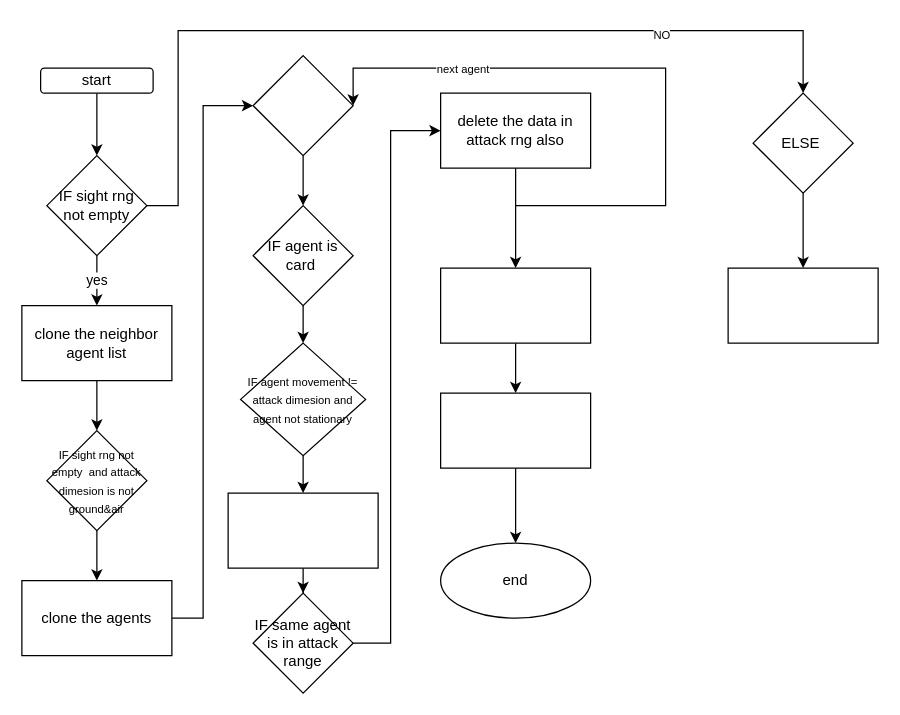
Image size: 900x715. Some labels were removed from this diagram. The shapes that lost their labels are listed below. From the top down, each one's box as (x1, y1, x2, y2) in pixels, then its label:
(252, 54, 353, 156): FOR all sight rng data
(439, 267, 591, 343): set the size data of sight and attack range data
(727, 267, 878, 343): User console
(439, 392, 591, 468): return the filtered the agent list
(227, 492, 378, 568): delete the sight rng data
